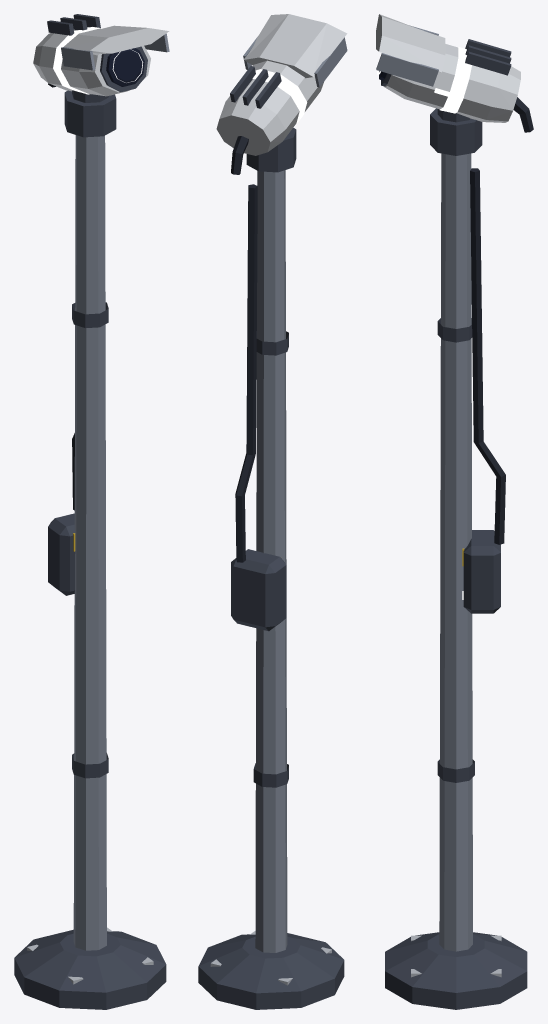
File: security-camera.glb
3 renders of one model, left to right at view 1: azimuth 30°, elevation 25°; view 2: azimuth 150°, elevation 25°; view 3: azimuth 270°, elevation 25°, orthographic. The views are drawn at different scales.
Parts seen in each view (by area): view 1: Pole, Head; view 2: Pole, Head; view 3: Pole, Head.
Boxes of the visible parts, x1=… form: Pole: x1=14, y1=90, x2=166, y2=1009; Head: x1=33, y1=14, x2=169, y2=102; Pole: x1=198, y1=127, x2=344, y2=1009; Head: x1=216, y1=14, x2=347, y2=174; Pole: x1=385, y1=108, x2=527, y2=1009; Head: x1=376, y1=14, x2=533, y2=132.
Size of the model in its own units: 0.4 by 2.81 by 0.4221.
